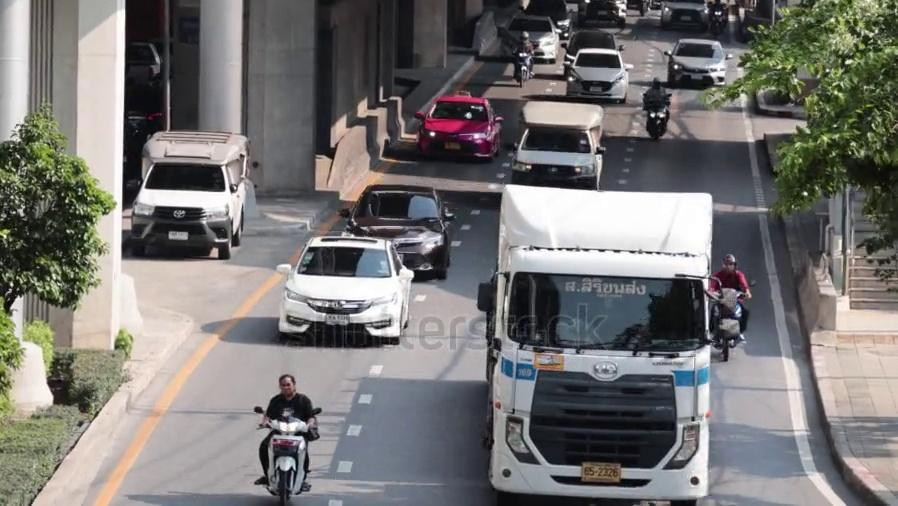rider: (253, 373, 317, 491), (708, 253, 751, 346), (639, 76, 674, 139), (511, 30, 535, 80), (709, 0, 729, 41)
with_helmate: (723, 256, 737, 272), (651, 76, 664, 89), (521, 32, 531, 46)
without_helmate: (275, 373, 299, 396)
